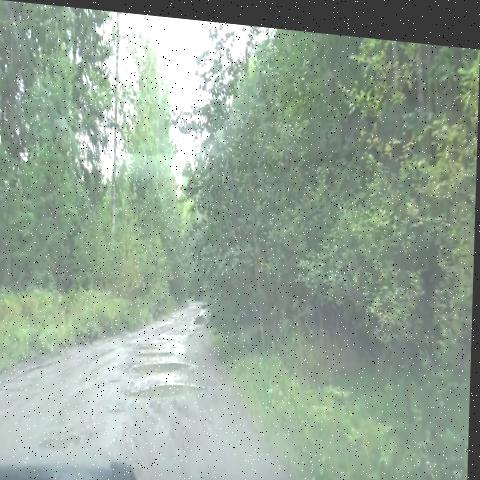pothole: (124, 373, 209, 413), (33, 415, 97, 465), (119, 349, 204, 383), (129, 328, 186, 359), (191, 297, 217, 328), (105, 396, 129, 421), (103, 369, 125, 393)
